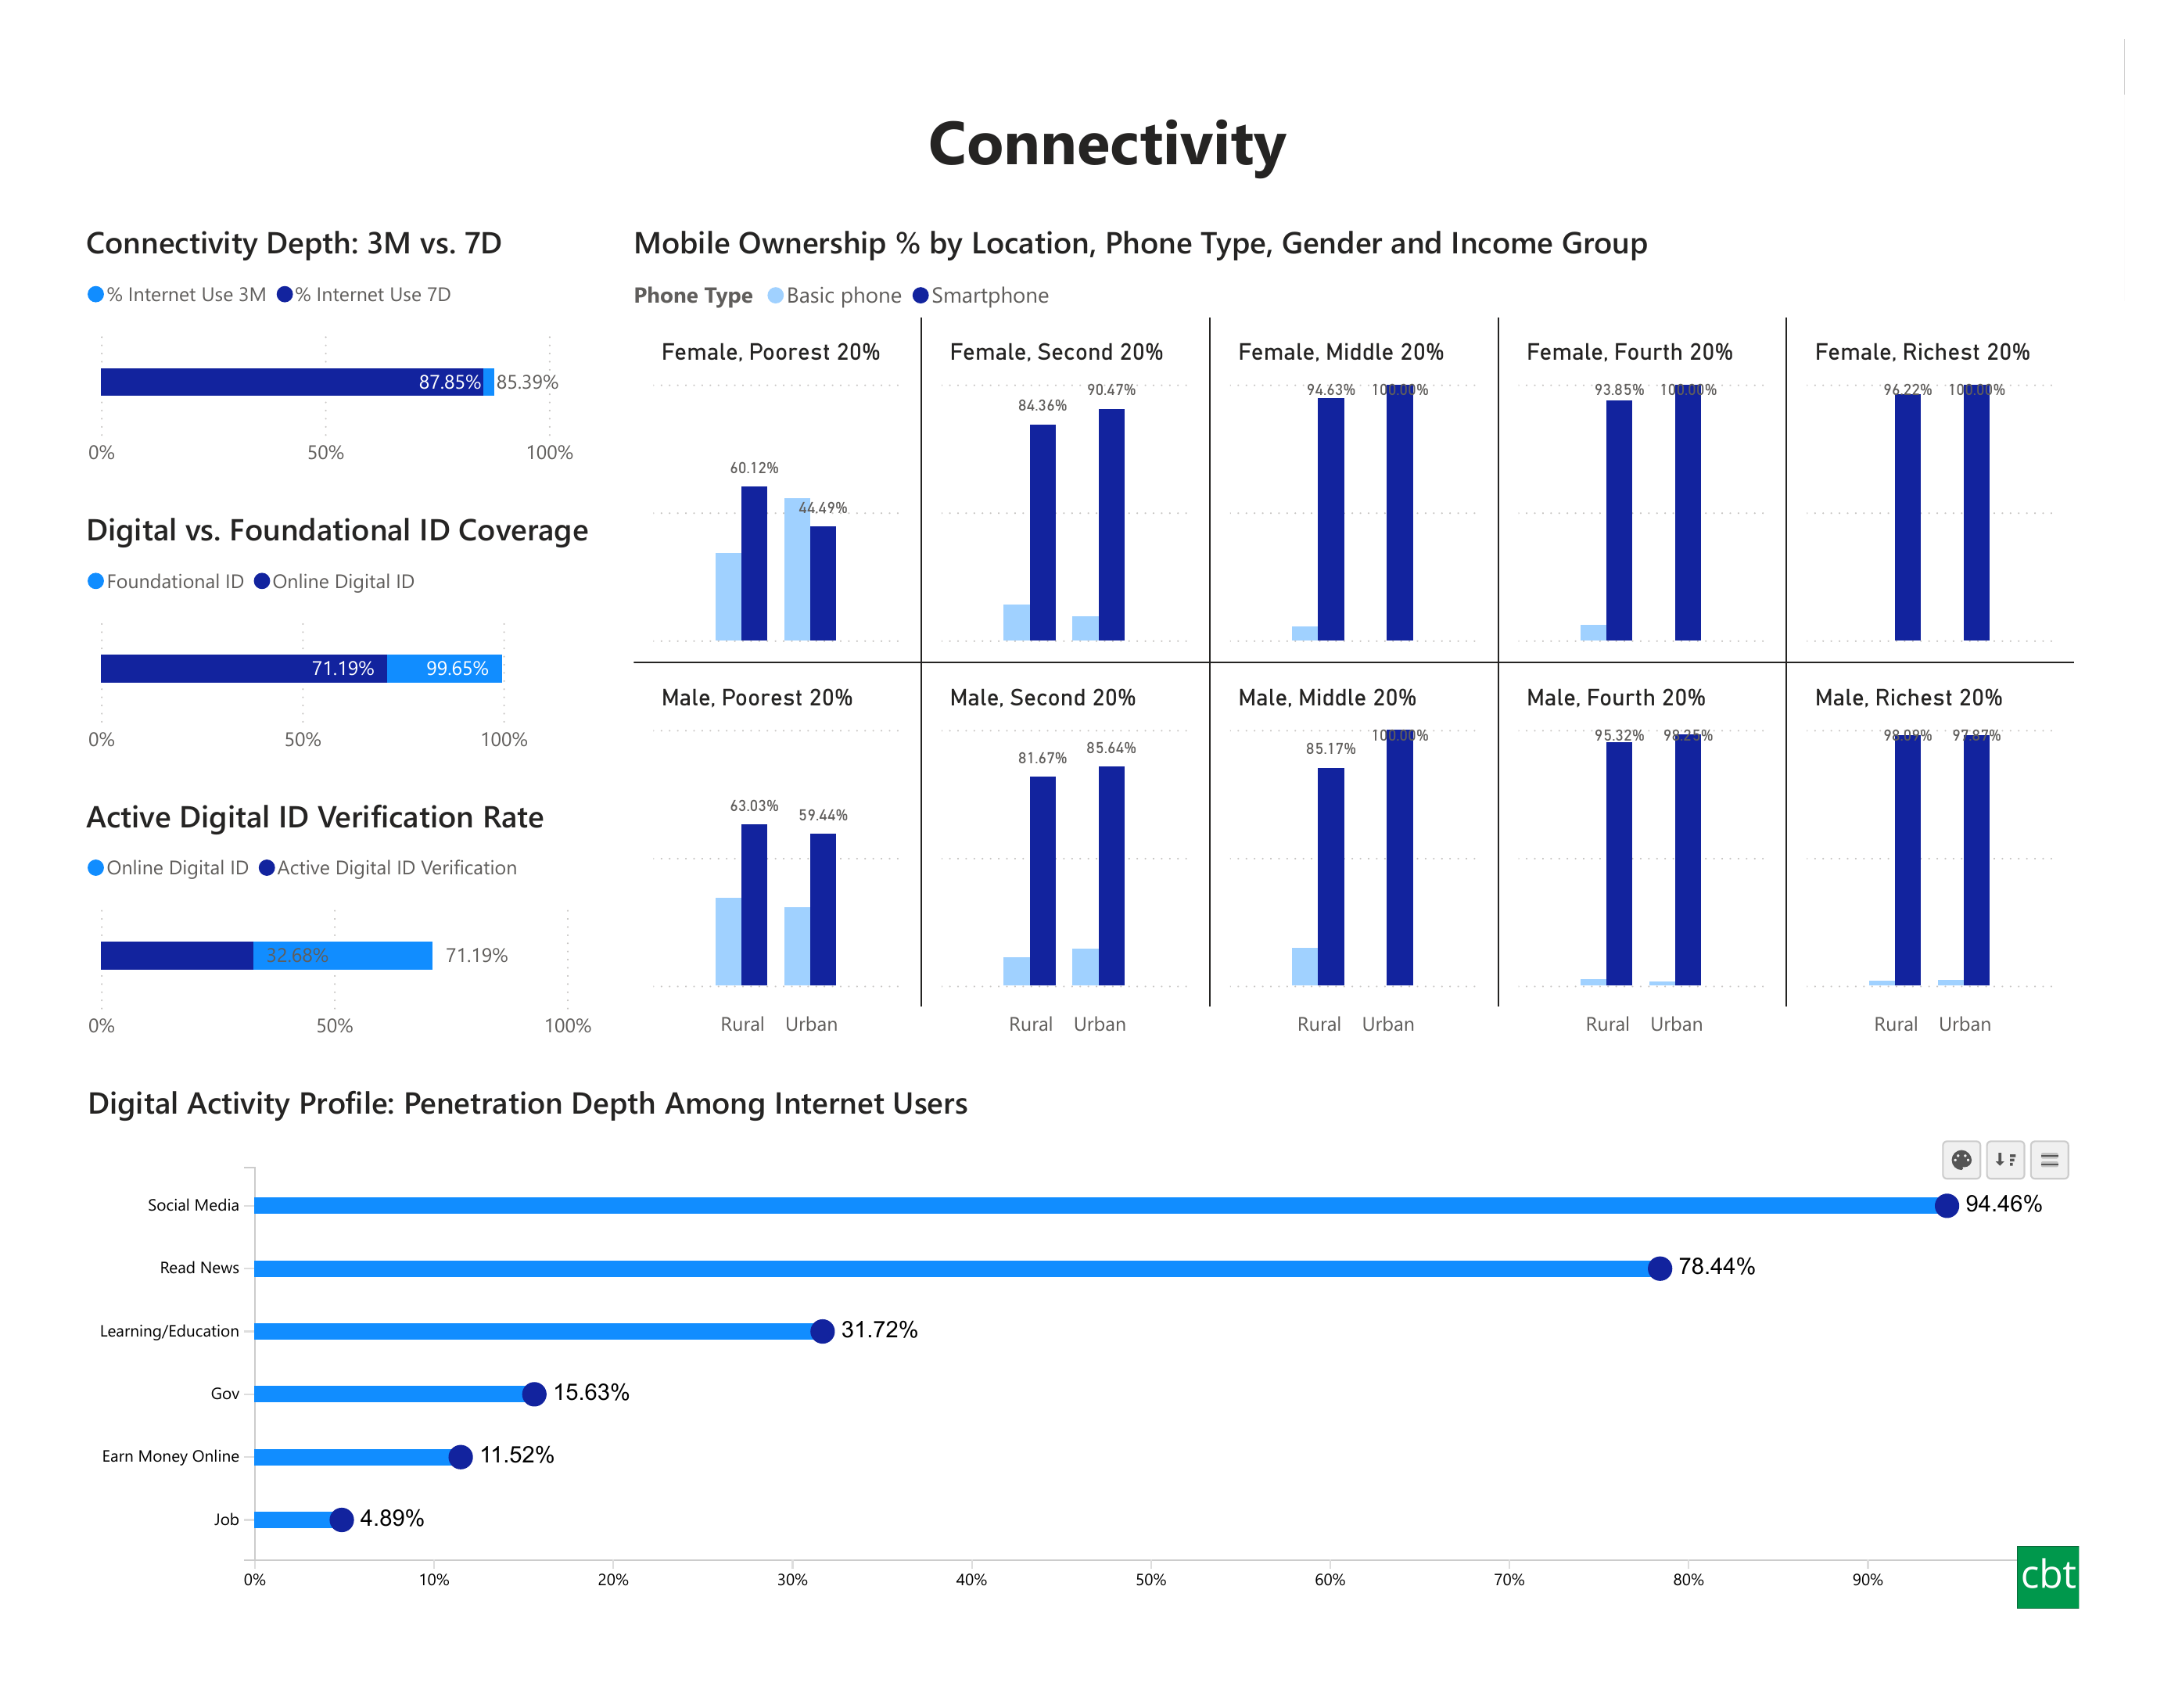

The page's visual inventory and layout, read from the dashboard file:
{"tool":"powerbi","page":{"name":"Connectivity","canvas":[1280,1000],"ordinal":1},"visuals":[{"type":"clusteredColumnChart","fields":{"Y":["Findex_Microdata_2025_updateViet Nam.Mobile Ownership %"],"Series":["Findex_Microdata_2025_updateViet Nam.Phone Type"],"Rows":["Findex_Microdata_2025_updateViet Nam.Gender","Findex_Microdata_2025_updateViet Nam.Income Group"],"Category":["Findex_Microdata_2025_updateViet Nam.Location Type"]},"box":[360,112,896,512],"z":0},{"type":"clusteredBarChart","title":"Active Digital ID Verification Rate","fields":{"Y":["Findex_Microdata_2025_updateViet Nam.% Online Digital ID Ownership","Findex_Microdata_2025_updateViet Nam.% Active Digital ID Verification"]},"box":[24,464,320,160],"z":1000},{"type":"clusteredBarChart","title":"Digital vs. Foundational ID Coverage","fields":{"Y":["Findex_Microdata_2025_updateViet Nam.% Foundational ID Coverage","Findex_Microdata_2025_updateViet Nam.% Online Digital ID Ownership"]},"box":[24,288,320,160],"z":2000},{"type":"clusteredBarChart","title":"Connectivity Depth: 3M vs. 7D","fields":{"Y":["Findex_Microdata_2025_updateViet Nam.% Baseline Internet Use (3 Months)","Findex_Microdata_2025_updateViet Nam.% High Frequency Internet Use (7 Days)"]},"box":[24,112,320,160],"z":3000},{"type":"textbox","box":[336,32,640,64],"z":4000},{"type":"DumbbellChart1716000000001","title":"Digital Activity Profile: Penetration Depth Among Internet Users","fields":{"category":["Pillar5_Internet_Activities.Activity Category"],"measure1":["Pillar5_Internet_Activities.Dynamic_Internet_Activity_Value","Pillar5_Internet_Activities.Zero Baseline"]},"box":[25,640,1232,328],"z":5000}]}

Visuals, with their boxes on the page's 1280x1000 design canvas (x1, y1, x2, y2). These are canvas units, not pixel positions in the 2164x1708 screenshot, which may show the page scaled, cropped or inside an application window:
clusteredColumnChart - Findex_Microdata_2025_updateViet Nam.Mobile Ownership % x Findex_Microdata_2025_updateViet Nam.Phone Type: (360,112,1256,624)
"Active Digital ID Verification Rate" clusteredBarChart: (24,464,344,624)
"Digital vs. Foundational ID Coverage" clusteredBarChart: (24,288,344,448)
"Connectivity Depth: 3M vs. 7D" clusteredBarChart: (24,112,344,272)
textbox: (336,32,976,96)
"Digital Activity Profile: Penetration Depth Among Internet Users" DumbbellChart1716000000001: (25,640,1257,968)
